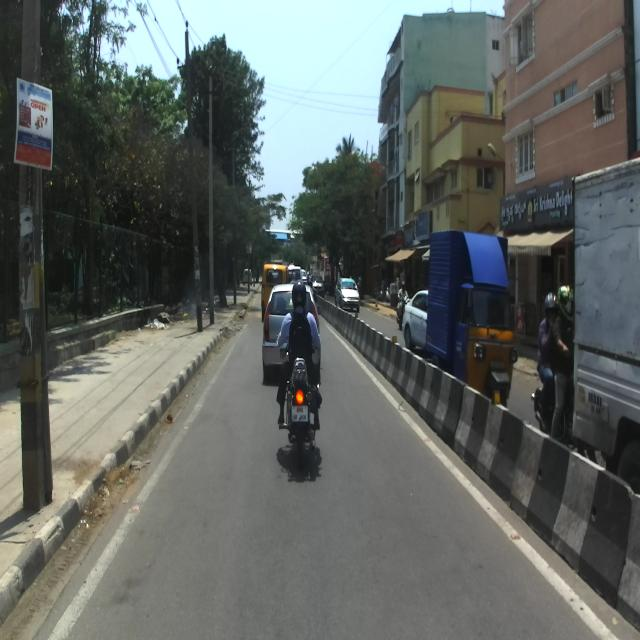electric pole ahead at: (9, 3, 57, 519), (177, 15, 219, 362)
motorcycle ahead at: (277, 354, 326, 468)
truck ahead at: (425, 230, 521, 403)
